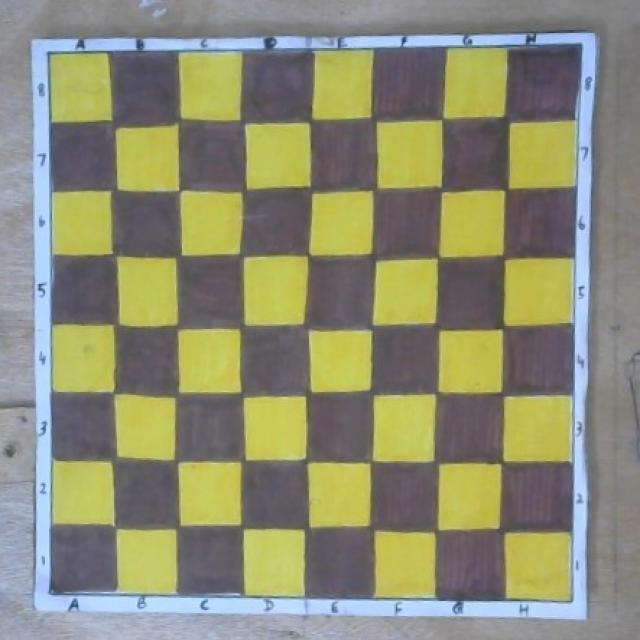chess-table-corners: (40, 580, 62, 602), (564, 592, 576, 606), (576, 38, 586, 51), (44, 50, 52, 56)
